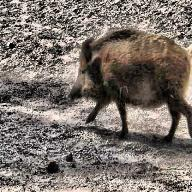boar: (75, 22, 192, 147)
